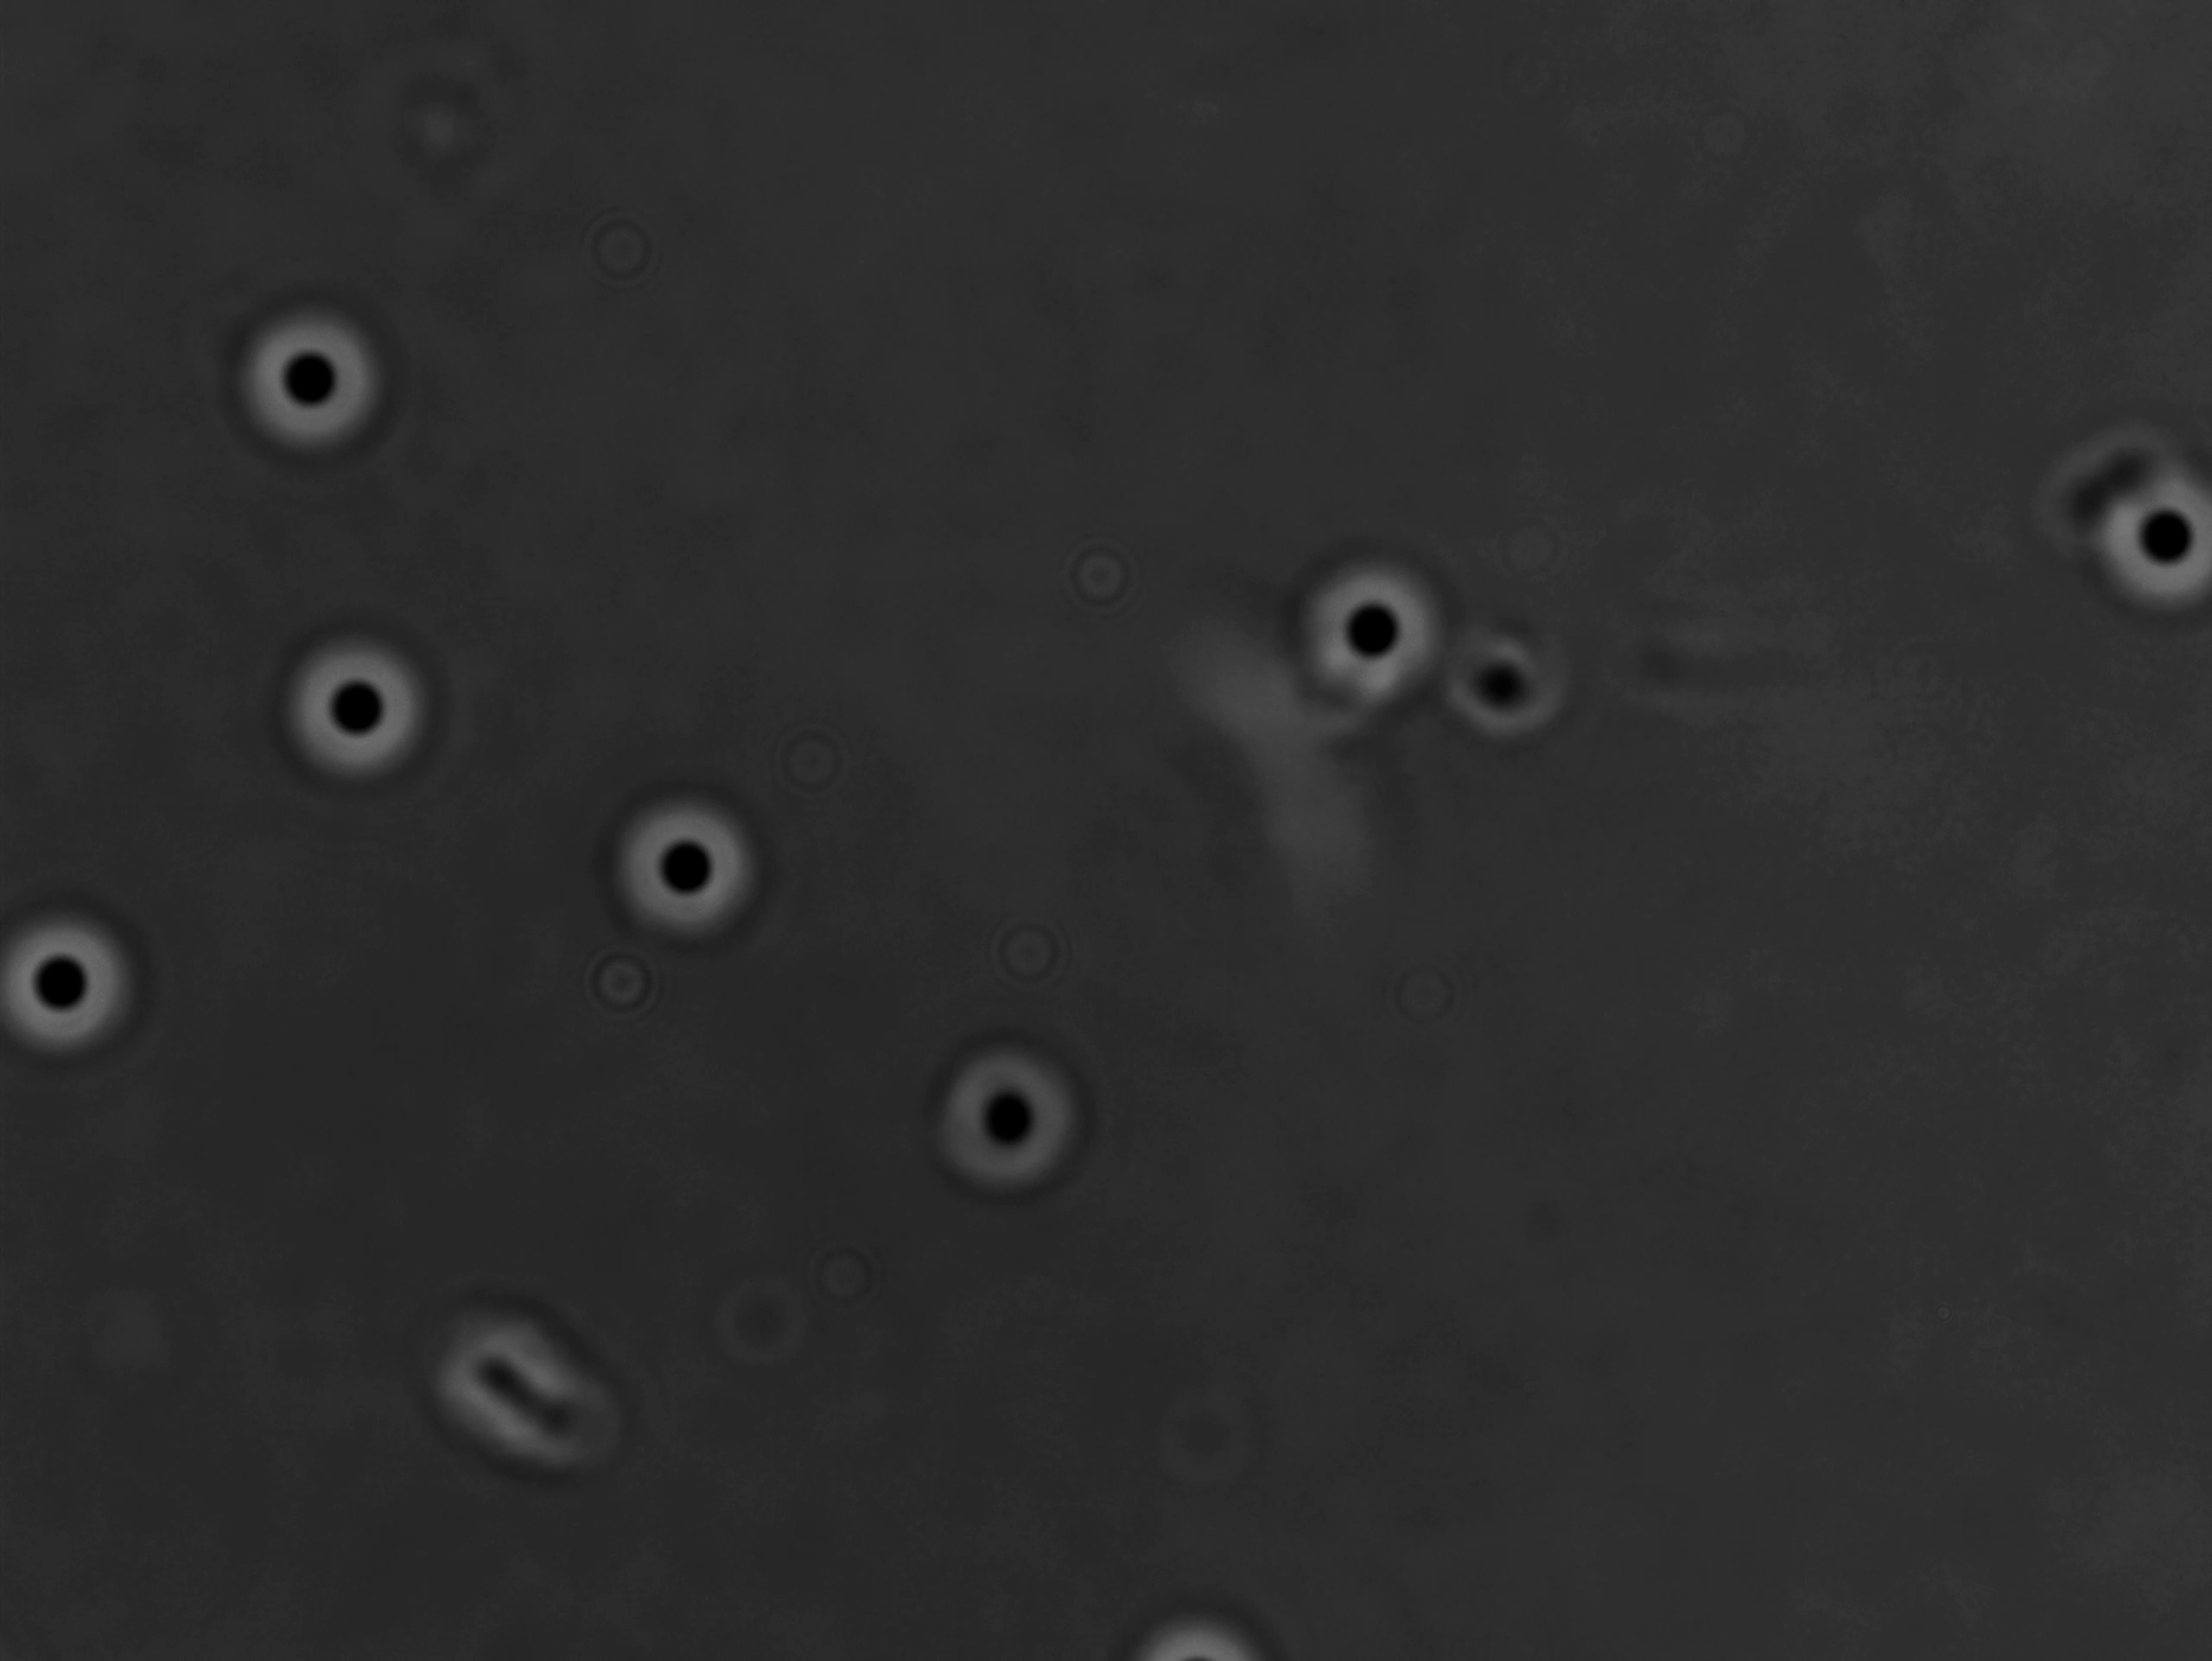depth:-40: (1282, 550, 1465, 726), (276, 626, 448, 797), (600, 785, 766, 947), (229, 304, 393, 459), (2092, 466, 2212, 611)
